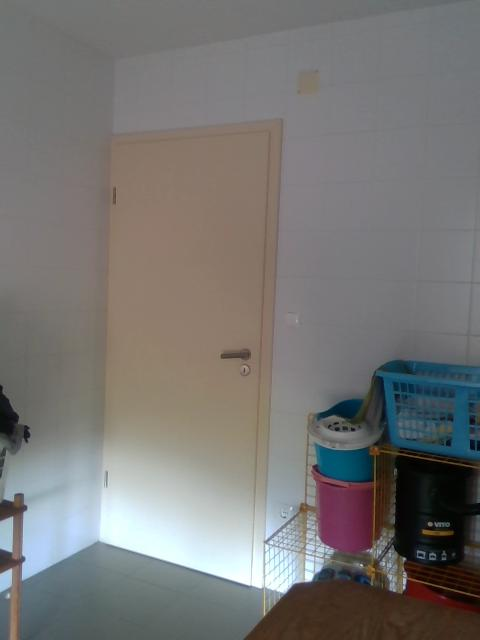door: (119, 128, 270, 585)
